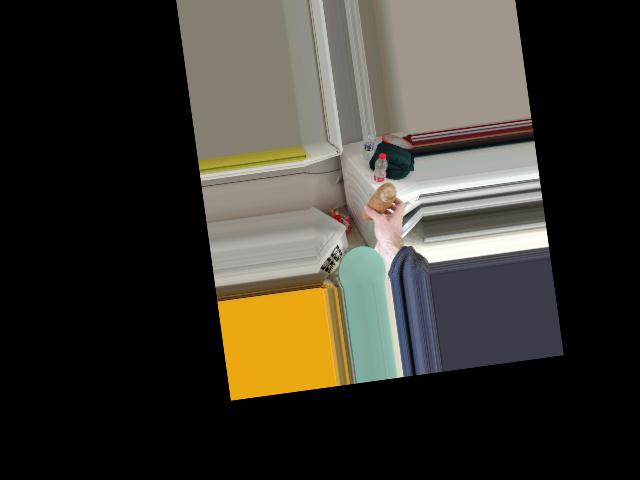sweet_potato: (354, 182, 403, 221)
